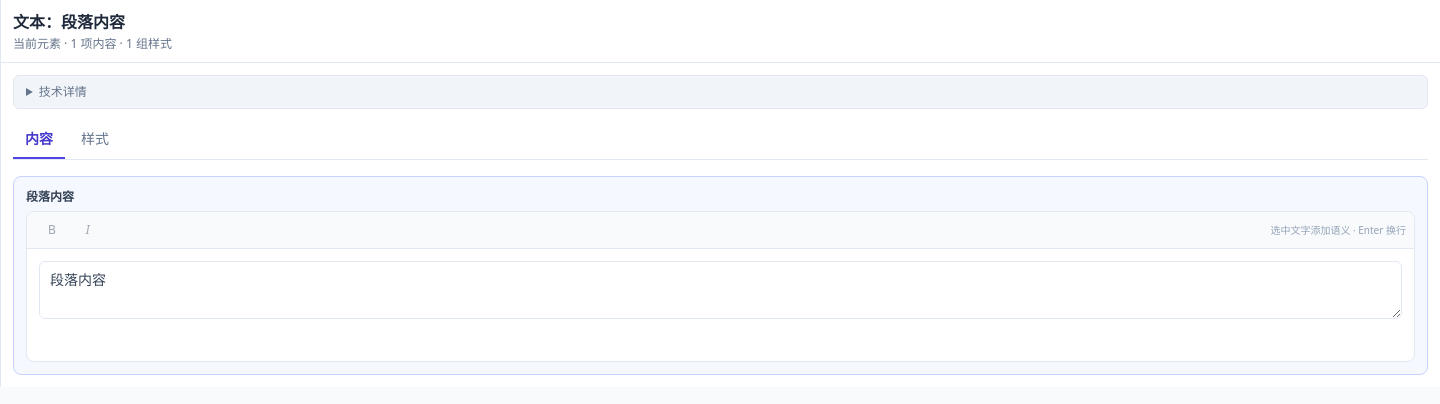
PageVisualEditPropertyInspector › 段落结构应通过内容和样式 tab 编辑，并默认展示常用文字样式
Expected: the heading "文本：段落内容" is shown, x1=13 y1=11 x2=125 y2=33
Expected: the text box is shown, x1=39 y1=261 x2=1402 y2=319
Press the mouse on the tab "样式": (95, 140) x1=69 y1=121 x2=121 y2=159
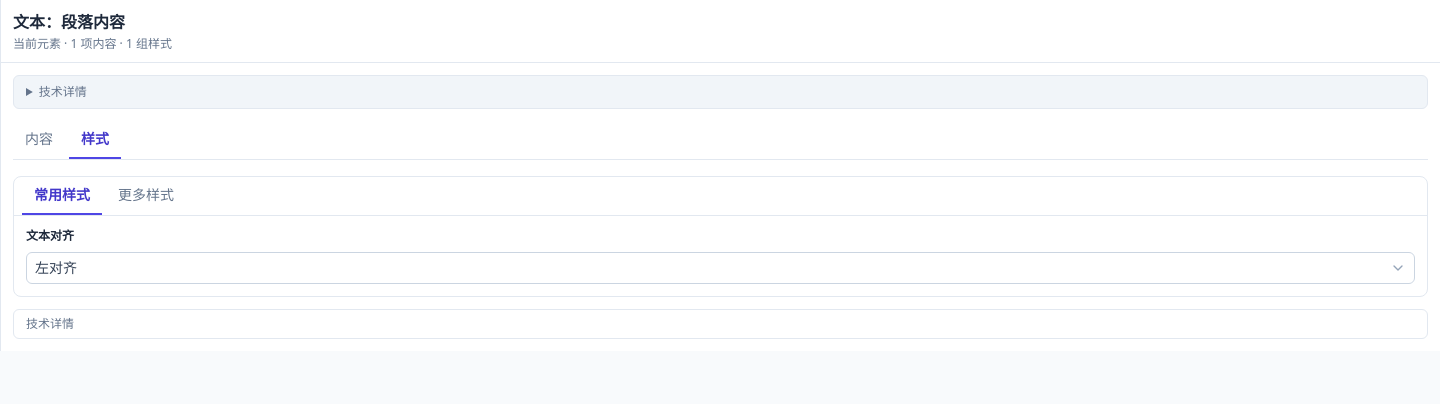
Result: the dropdown named "文本对齐" is shown at x1=26 y1=252 x2=1415 y2=284
